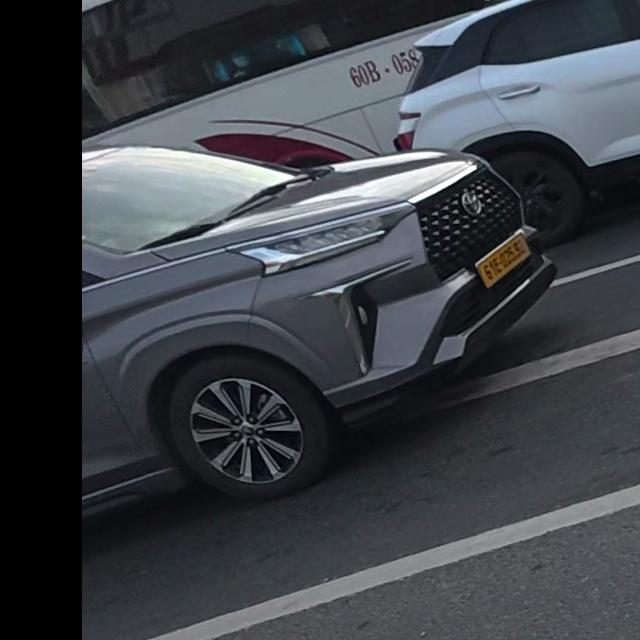license-plate: (476, 231, 530, 288)
